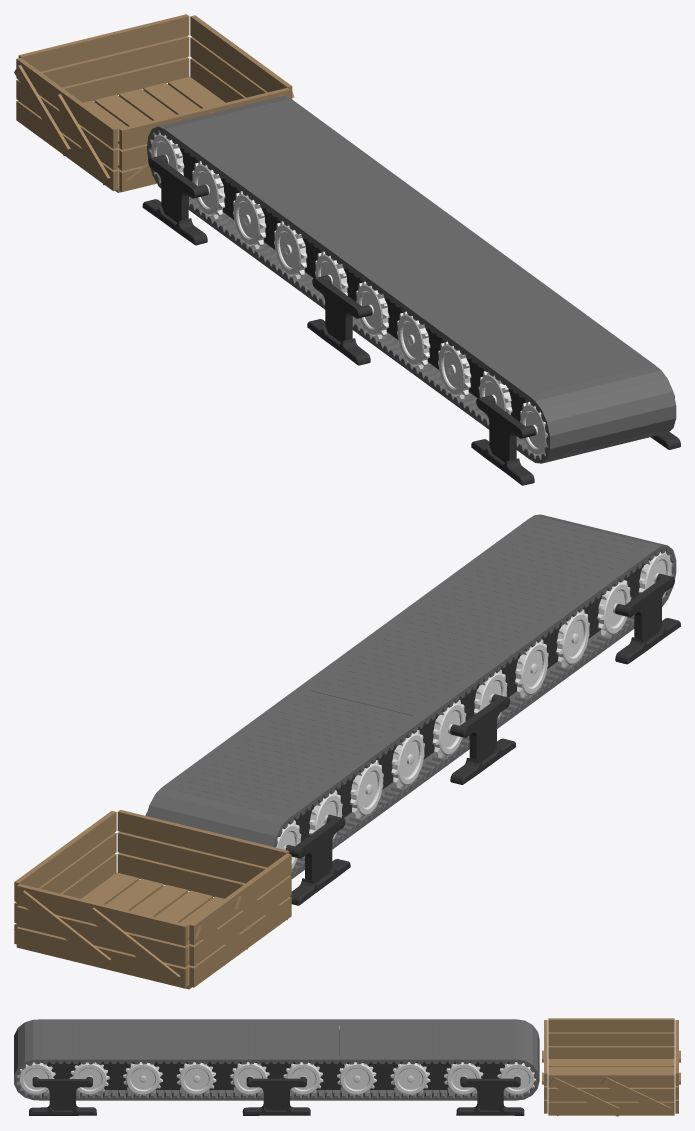
The model's file is conveyor.fbx.
3 views of the same model, one above another, from view 1: azimuth 30°, elevation 25°; view 2: azimuth 150°, elevation 25°; view 3: azimuth 270°, elevation 25° (orthographic). The views are drawn at different scales.
Visible parts, largest first — view 1: Circle.018, pallette_2.orig, Circle.046, Circle.042, Circle.059, Circle.058, Circle.055, Circle.054, Circle.057, Circle.047, Circle.061, Circle.056 (+2 smaller); view 2: Circle.018, pallette_2.orig, Circle.046, Circle.042, Circle.055, Circle.059, Circle.054, Circle.058, Circle.056, Circle.060, Circle.057, Circle.047 (+1 smaller); view 3: Circle.018, pallette_2.orig, Circle.046, Circle.042, Circle.055, Circle.059, Circle.054, Circle.058, Circle.047, Circle.057, Circle.056, Circle.060 (+2 smaller).
Part boxes in pixels (box(x1,y1,x2,y2)): Circle.018: box(147, 95, 676, 463); pallette_2.orig: box(14, 14, 294, 192); Circle.046: box(142, 155, 680, 485); Circle.042: box(179, 147, 526, 421); Circle.059: box(438, 341, 471, 399); Circle.058: box(397, 311, 430, 369); Circle.055: box(274, 221, 307, 279); Circle.054: box(233, 191, 266, 249); Circle.057: box(356, 281, 389, 339); Circle.047: box(192, 161, 225, 219); Circle.061: box(520, 402, 548, 457); Circle.056: box(315, 251, 348, 301); Circle.018: box(146, 514, 676, 878); pallette_2.orig: box(14, 810, 291, 989); Circle.046: box(145, 573, 680, 905); Circle.042: box(294, 564, 643, 841); Circle.055: box(391, 730, 424, 788); Circle.059: box(556, 609, 589, 667); Circle.054: box(350, 760, 383, 818); Circle.058: box(515, 639, 548, 698); Circle.056: box(432, 699, 466, 758); Circle.060: box(597, 580, 631, 637); Circle.057: box(474, 669, 507, 718); Circle.047: box(309, 790, 342, 839); Circle.018: box(14, 1019, 539, 1100); pallette_2.orig: box(542, 1018, 680, 1116); Circle.046: box(29, 1076, 524, 1115); Circle.042: box(40, 1030, 524, 1089); Circle.055: box(337, 1062, 376, 1096); Circle.059: box(123, 1062, 162, 1096); Circle.054: box(390, 1062, 430, 1096); Circle.058: box(176, 1062, 216, 1096); Circle.047: box(444, 1062, 483, 1096); Circle.057: box(230, 1062, 269, 1096); Circle.056: box(283, 1062, 323, 1096); Circle.060: box(69, 1062, 109, 1094).
Size of the model in its own units: 130 by 53.18 by 624.
